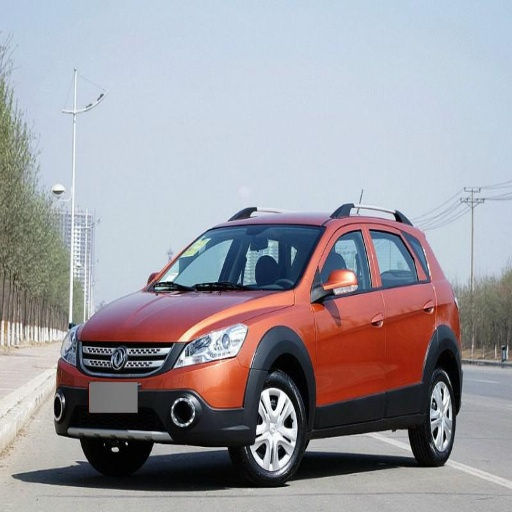front_bumper: (53, 340, 251, 448)
front_glass: (146, 224, 324, 290)
front_left_door: (311, 222, 386, 420)
